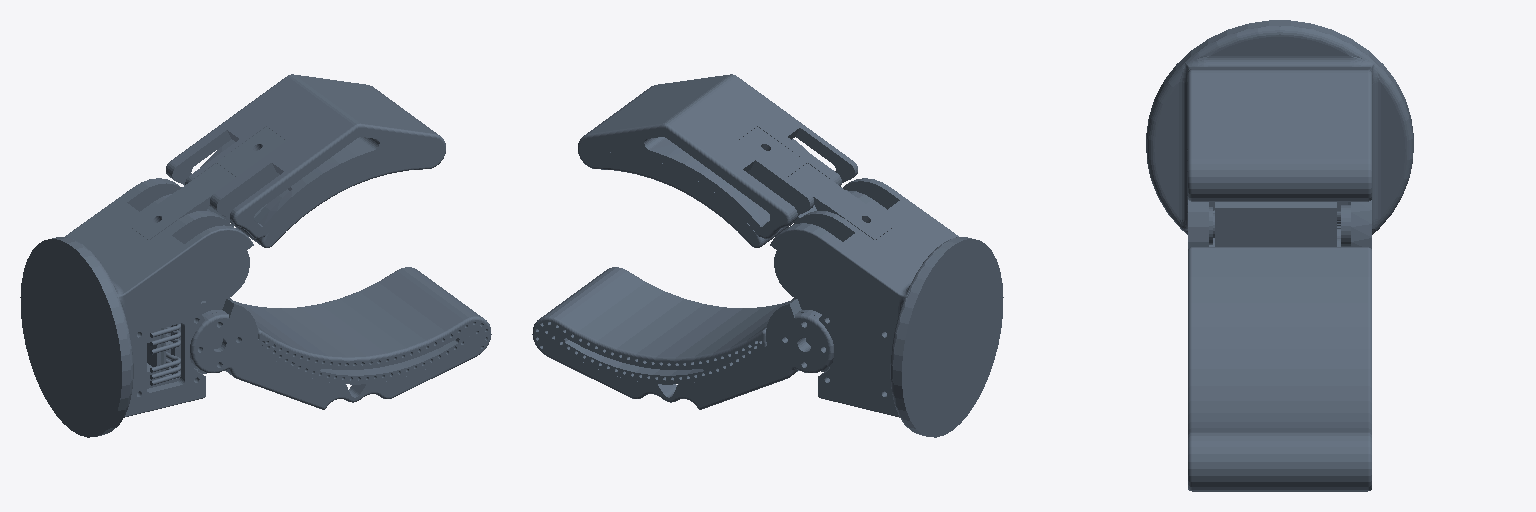
URDF robot description (eef1l):
<?xml version="1.0"?>
<robot  name="eef1l" >
 <material  name="blue" >
  <color  rgba="0 0 0.8 1.0" />
 </material>
 <material  name="red" >
  <color  rgba="0.8 0 0 1.0" />
 </material>
 <material  name="white" >
  <color  rgba="1.0 1.0 1.0 0.4" />
 </material>
 <material  name="black" >
  <color  rgba="0.0 0.0 0.0 1.0" />
 </material>
 <material  name="gray" >
  <color  rgba="0.42 0.47 0.53 1.0" />
 </material>
 <link  name="eef1l" >
  <visual >
   <origin  xyz="0 0 0"  rpy="0 0 0" />
   <material  name="gray" />
   <geometry >
    <mesh  filename="../../meshes/eef1l.obj"  scale="0.001 0.001 0.001" />
   </geometry>
  </visual>
 </link>
</robot>

--- What the picture shows (computed from the rendered views, not written in the file) ---
Views: 3 orthographic renders of the robot side by side, from view 1: azimuth 30°, elevation 25°; view 2: azimuth 150°, elevation 25°; view 3: azimuth 270°, elevation 25°.
Model eef1l with 1 links and 0 joints (none), rooted at eef1l, posed all joints at 0.
Links seen in each view (by area): view 1: eef1l; view 2: eef1l; view 3: eef1l.
Boxes of the visible links, <box> form: eef1l: <box>20,74,491,437</box>; eef1l: <box>532,74,1003,437</box>; eef1l: <box>1146,20,1413,491</box>.
Size in the robot's own frame: 0.1402 by 0.0639 by 0.0981 metres.
Meshes: 1 distinct files referenced, 1 mesh visuals loaded (1 OBJ).